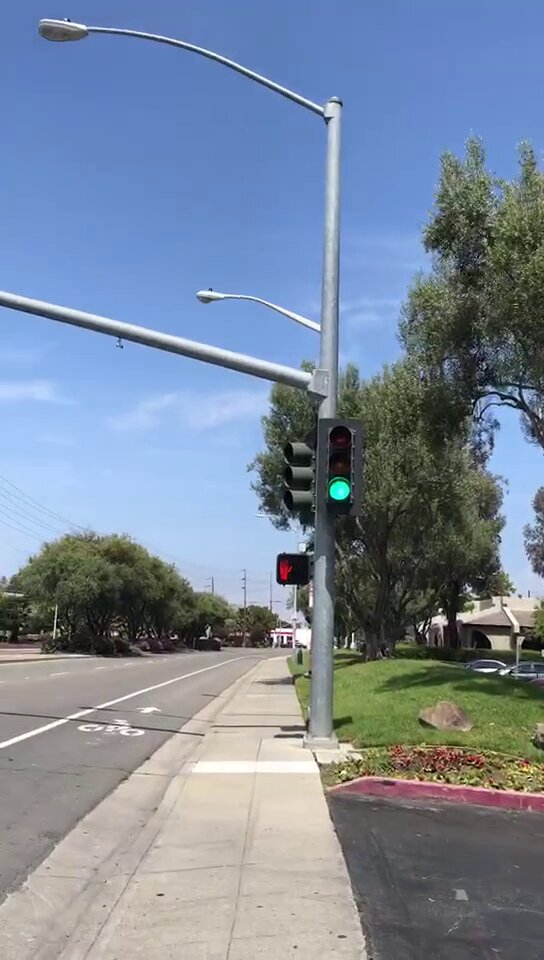green_light: (320, 420, 362, 509)
